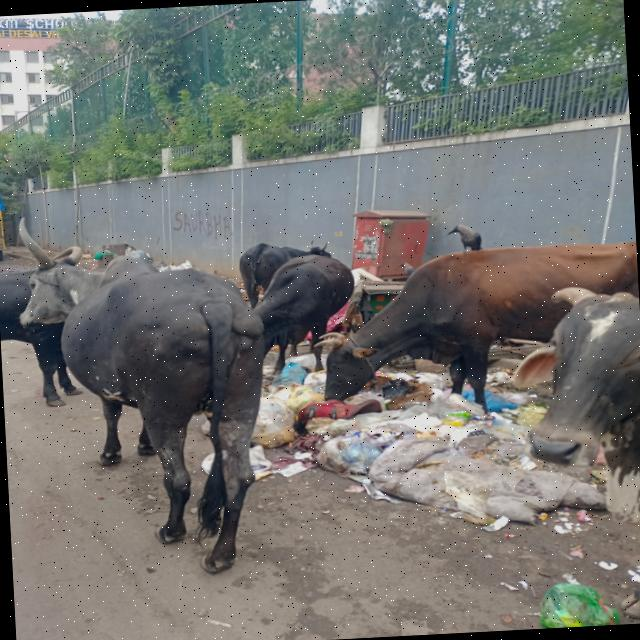garbage: (253, 351, 490, 450), (376, 426, 604, 528)
